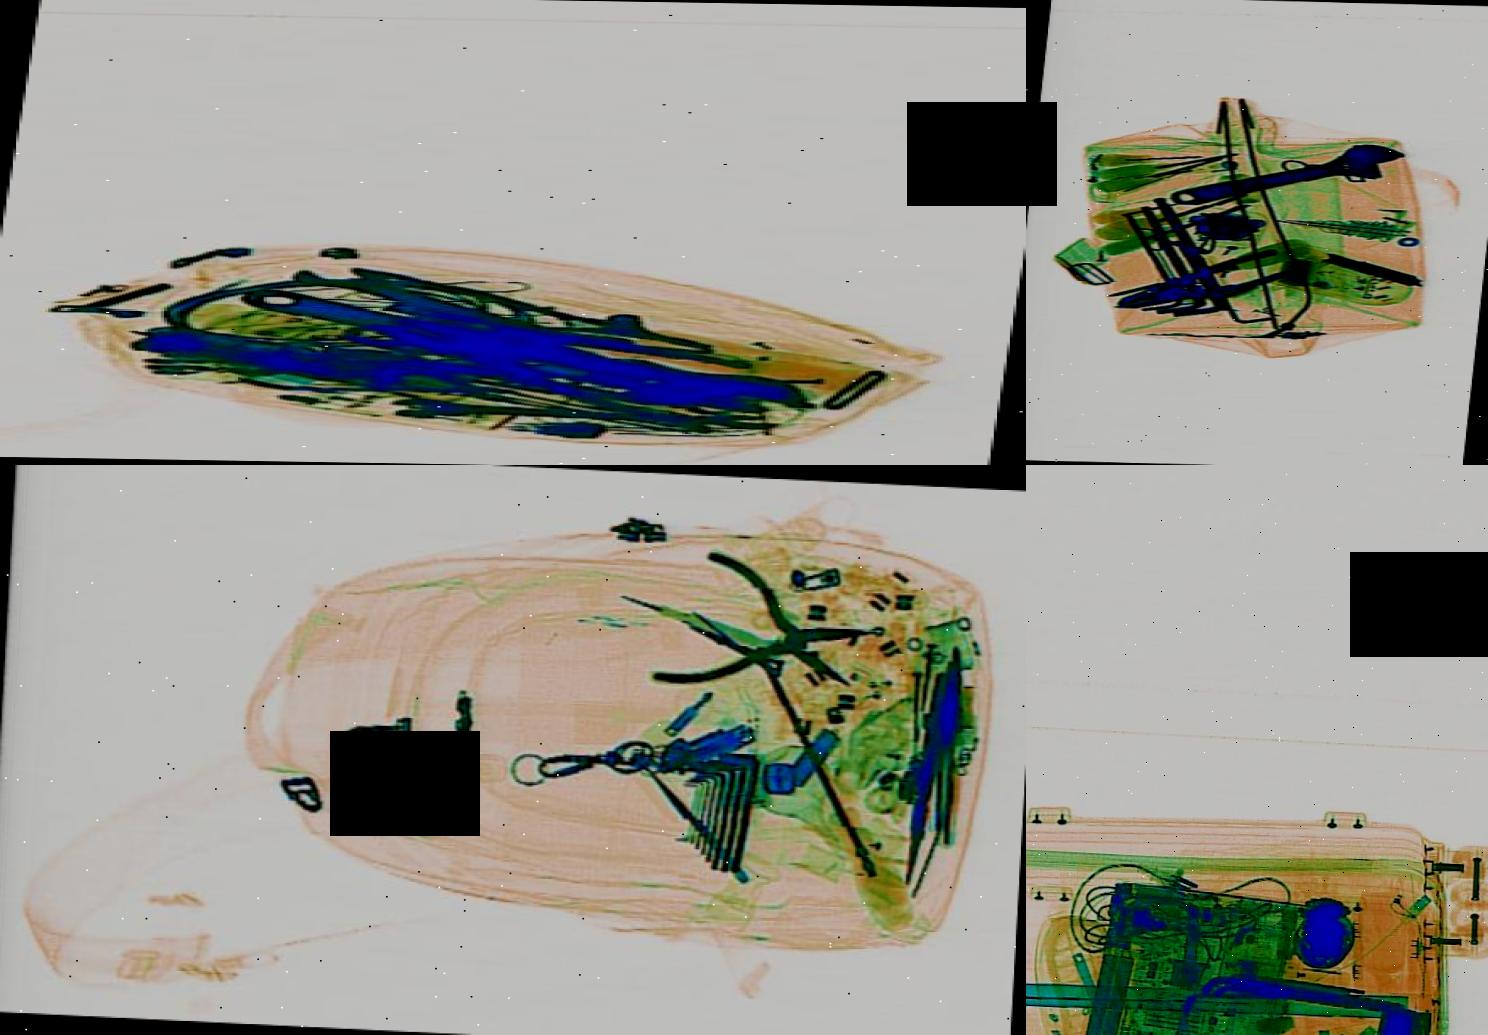Pliers: (608, 544, 916, 722), (1109, 238, 1292, 327)
Wrench: (197, 273, 840, 428), (266, 251, 580, 351), (1162, 127, 1411, 225)
